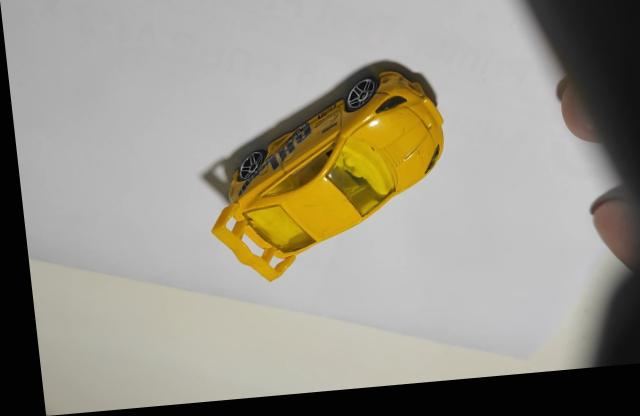07_RHLTURBO: (205, 67, 441, 285)
